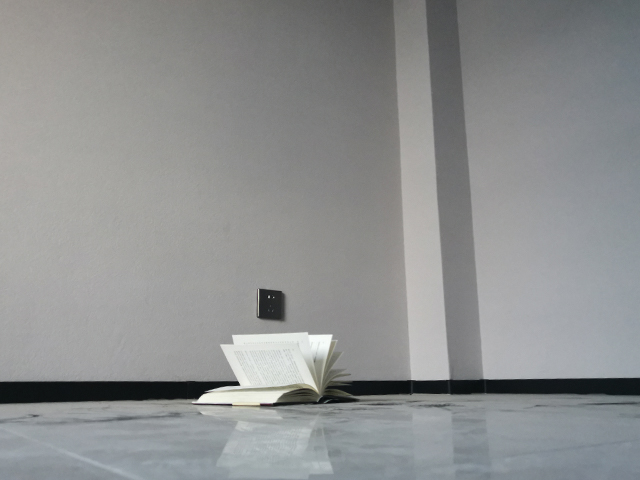book: (189, 331, 364, 407)
